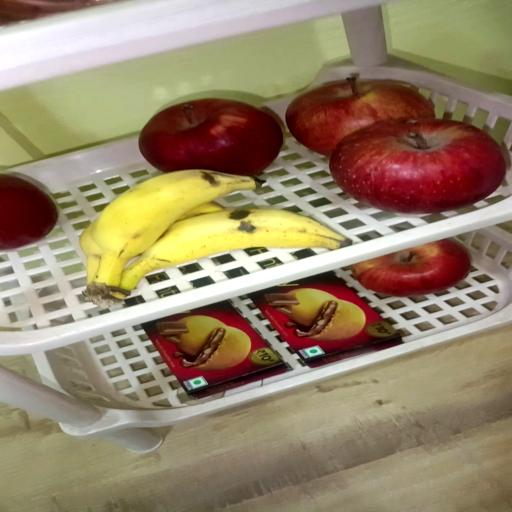Apple: (329, 118, 506, 212), (286, 75, 434, 155), (141, 97, 285, 176), (351, 241, 470, 298), (0, 176, 58, 253)
Choco Fills: (252, 272, 402, 368), (145, 303, 290, 397)
